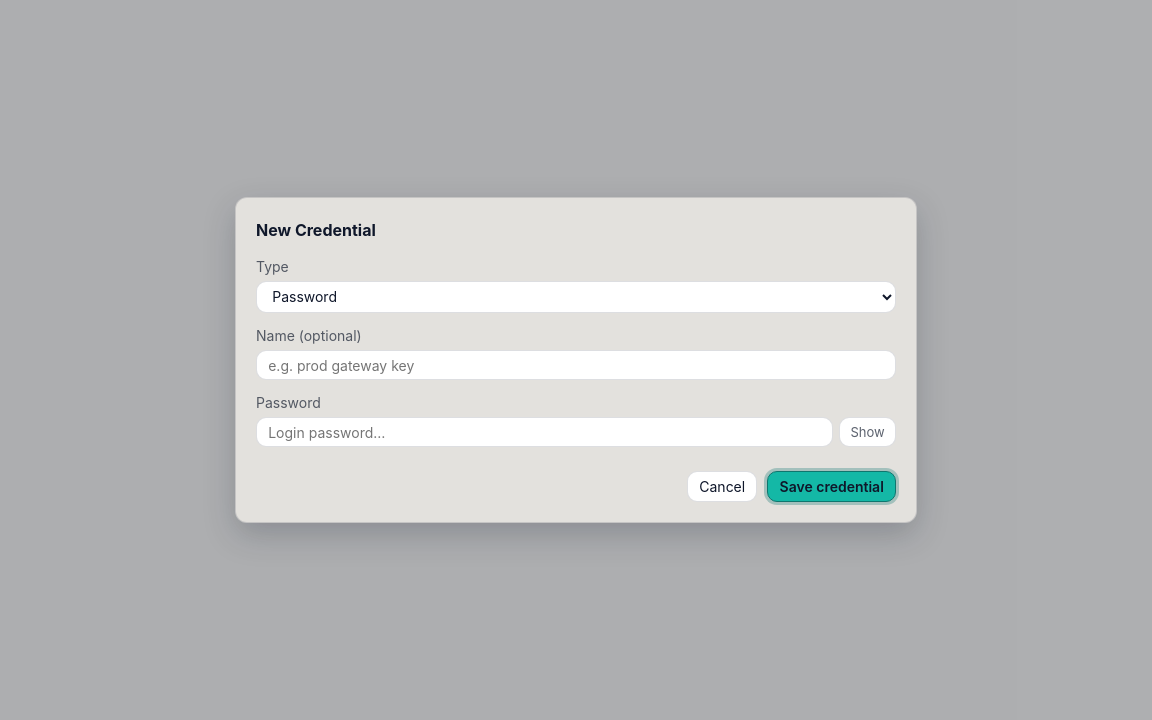
Test case: CredentialForm › 密码为空提交：显示校验错误，不发 credentials_create
Click the button with test id "cred-submit" at [832, 486], box [767,471,896,502]
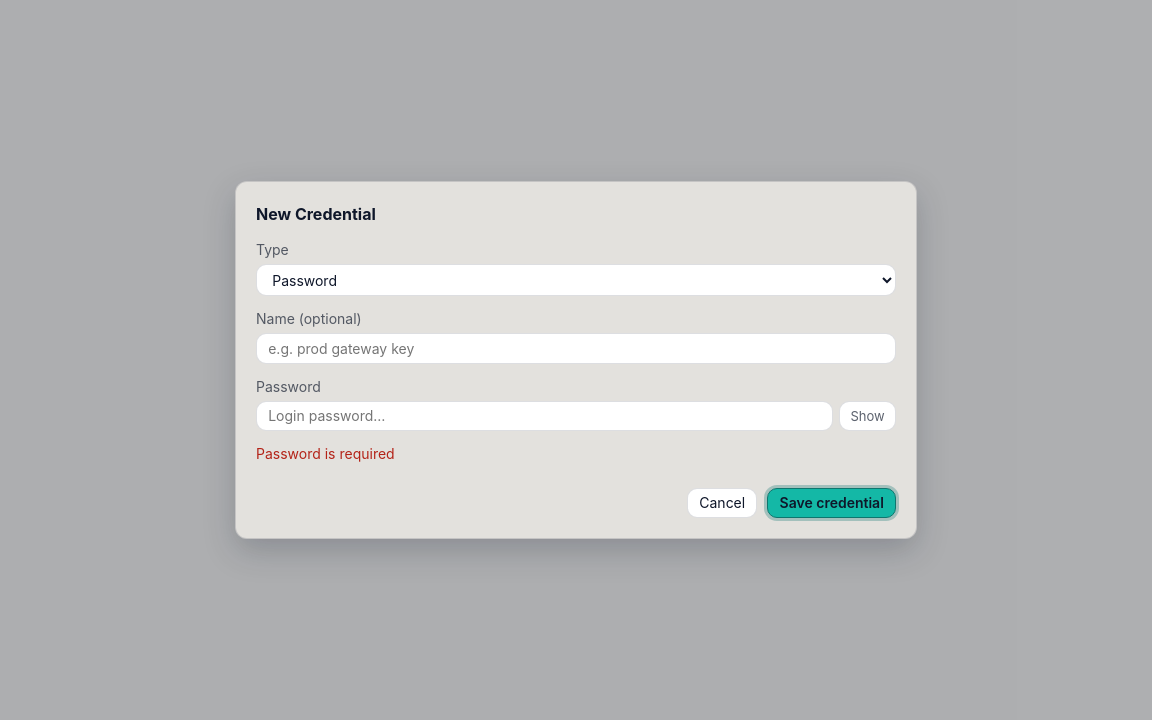
Expected: the text with test id "cred-error" reads "Password is required", [256,445,395,462]
